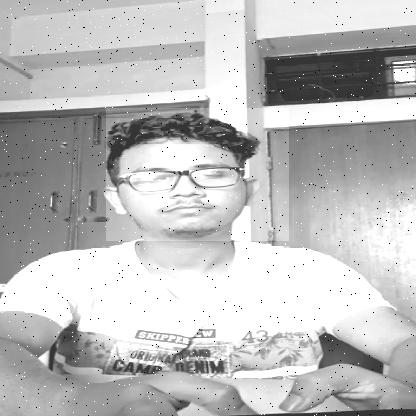Normal: (106, 108, 289, 241)
